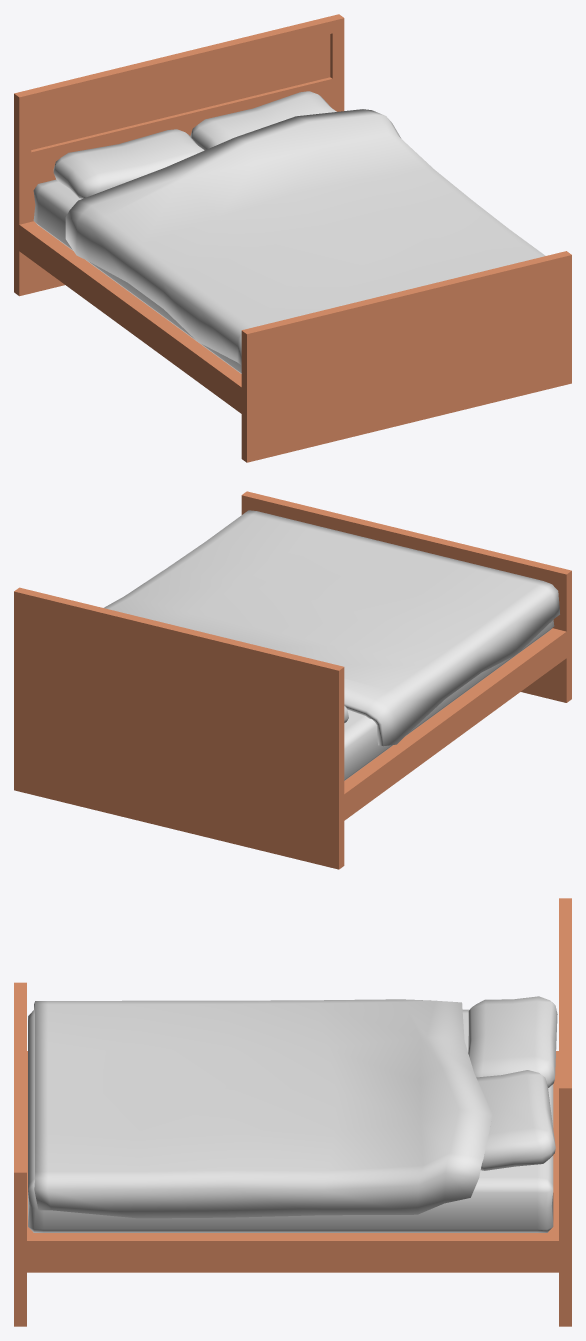
The model's file is SM_Furniture_Bed_01.fbx.
3 views of the same model, one above another, from view 1: azimuth 30°, elevation 25°; view 2: azimuth 150°, elevation 25°; view 3: azimuth 270°, elevation 25° (orthographic). The views are drawn at different scales.
Parts seen in each view (by area): view 1: Bed_01, Duvet; view 2: Bed_01, Duvet; view 3: Duvet, Bed_01.
Part boxes in pixels (bbox=[...]): Bed_01: bbox=[14, 14, 571, 462]; Duvet: bbox=[65, 109, 545, 365]; Bed_01: bbox=[14, 491, 571, 869]; Duvet: bbox=[104, 510, 559, 746]; Duvet: bbox=[34, 999, 492, 1218]; Bed_01: bbox=[14, 898, 571, 1326].
Size of the model in its own units: 172 by 100 by 212.
